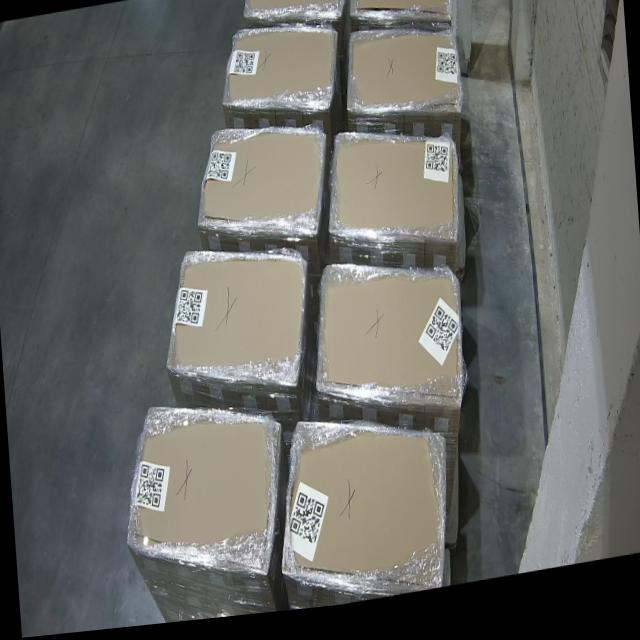pallet: (282, 431, 446, 596), (126, 413, 279, 581), (314, 274, 462, 414), (167, 259, 305, 394), (330, 140, 458, 257), (198, 131, 323, 247), (347, 35, 465, 121), (221, 34, 335, 114), (351, 0, 455, 33), (243, 0, 344, 30)
